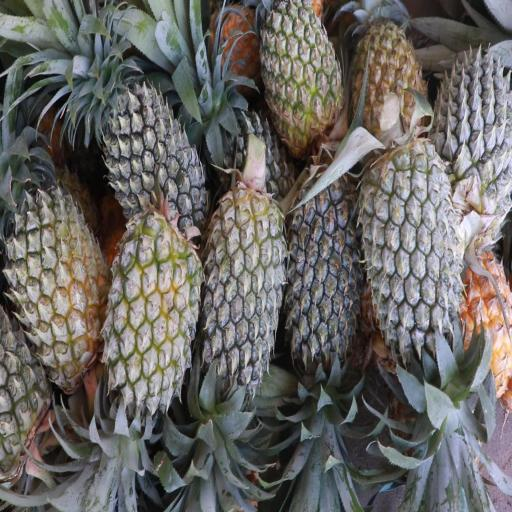------------------------------: (110, 214, 200, 423), (6, 188, 106, 376), (261, 0, 346, 155), (351, 0, 429, 145)
